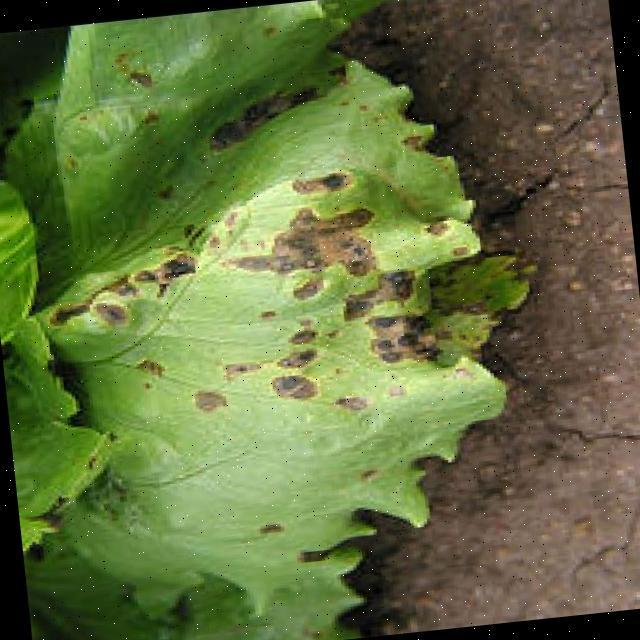Bacterial: (160, 148, 423, 459)
